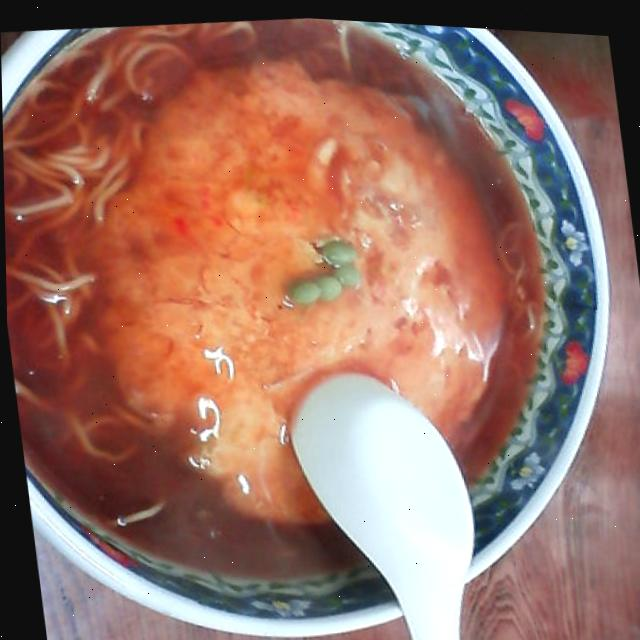面条主食: (0, 0, 565, 613)
